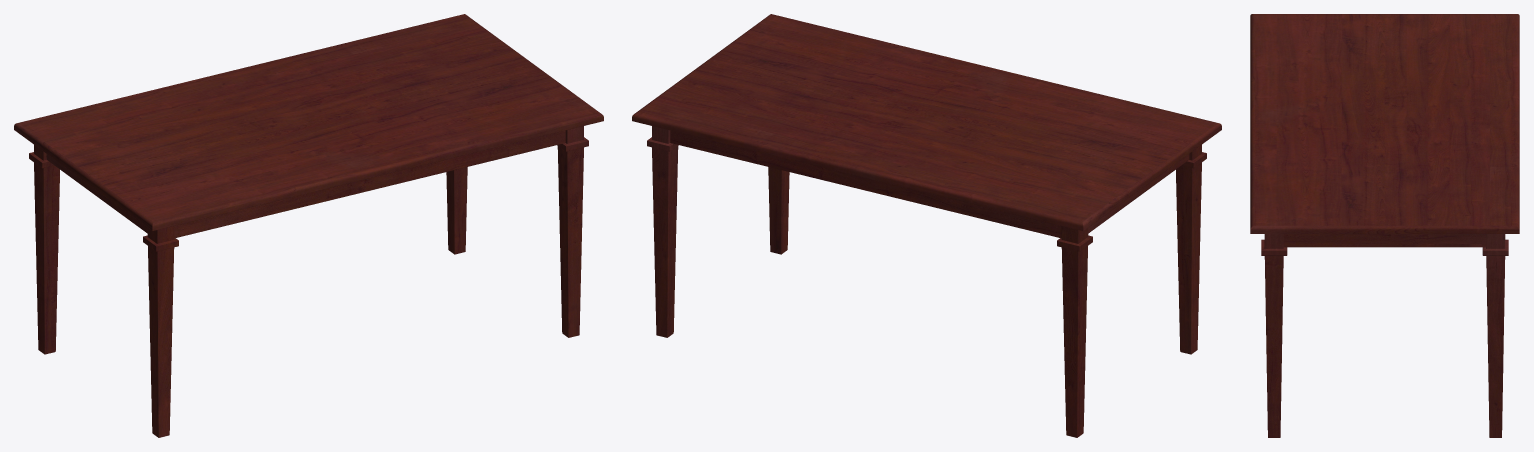
The model's file is obj_f07_01bs106_8fda70.glb.
3 views of the same model, side by side, from view 1: azimuth 30°, elevation 25°; view 2: azimuth 150°, elevation 25°; view 3: azimuth 270°, elevation 25° (orthographic). The views are drawn at different scales.
Visible parts, largest first — view 1: obj_f07_01bs106_8fda70; view 2: obj_f07_01bs106_8fda70; view 3: obj_f07_01bs106_8fda70.
Part boxes in pixels (x1,y1,x2,y2): obj_f07_01bs106_8fda70: [14, 14, 603, 437]; obj_f07_01bs106_8fda70: [632, 14, 1221, 437]; obj_f07_01bs106_8fda70: [1250, 14, 1519, 437].
Size of the model in its own units: 1.58 by 0.75 by 0.8388.
1 material, 1 textured.
